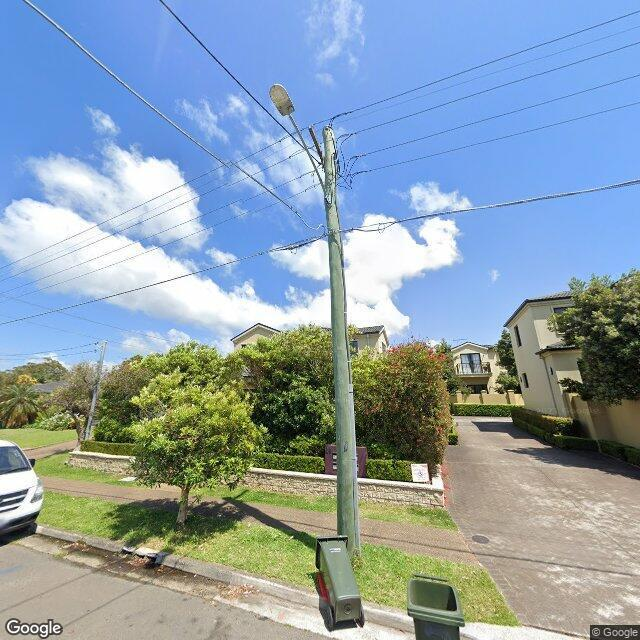crossarm: (308, 124, 325, 173)
steel-pole: (85, 339, 107, 439)
streetlight: (268, 84, 332, 204)
timber-pole: (324, 126, 362, 556)
